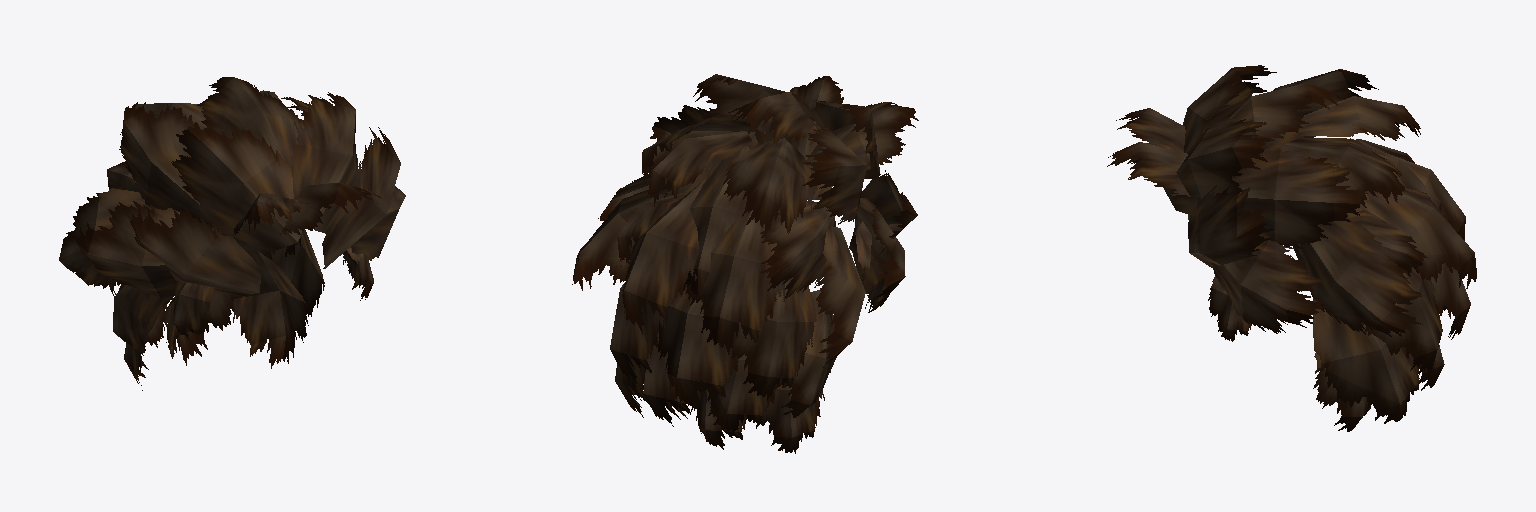
3 renders of one model, left to right at view 1: azimuth 30°, elevation 25°; view 2: azimuth 150°, elevation 25°; view 3: azimuth 270°, elevation 25°, orthographic.
Visible parts, largest first — view 1: hairpart_mesh; view 2: hairpart_mesh; view 3: hairpart_mesh.
Part boxes in pixels (x1,y1,x2,y2): hairpart_mesh: (59, 77, 405, 390); hairpart_mesh: (572, 74, 918, 453); hairpart_mesh: (1107, 65, 1476, 431).
Bounding box in the file's own units: 0.3158 × 0.336 × 0.36.
Materials: 1 (1 with a texture image).